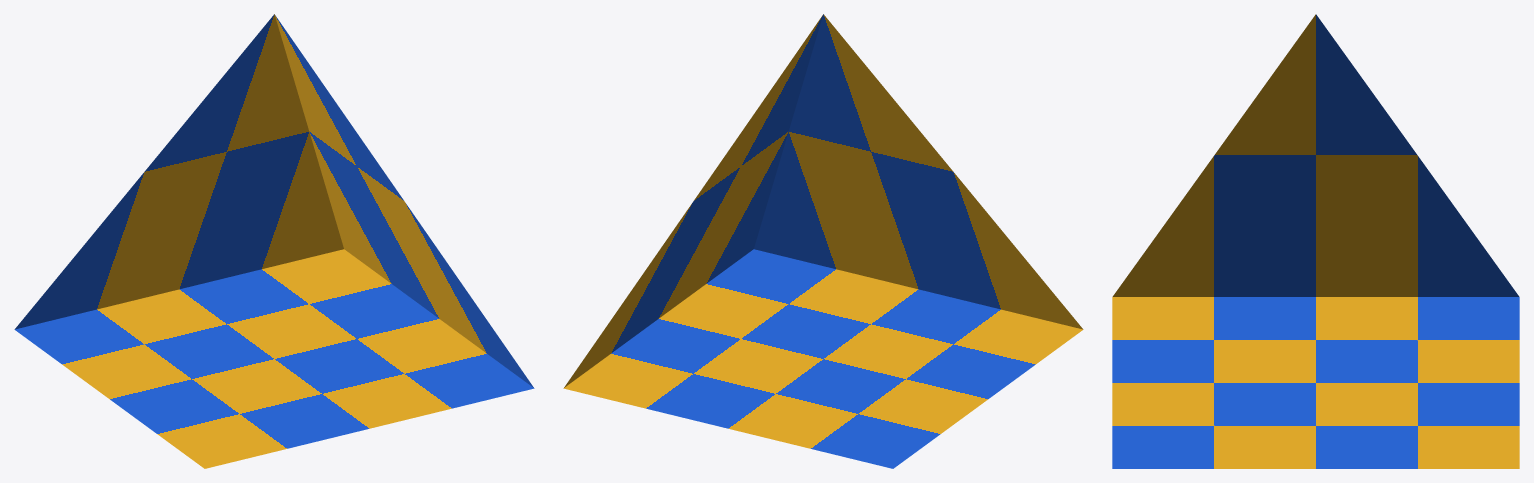
3 renders of one model, left to right at view 1: azimuth 30°, elevation 25°; view 2: azimuth 150°, elevation 25°; view 3: azimuth 270°, elevation 25°, orthographic. The views are drawn at different scales.
Visible parts, largest first — view 1: Blue gold pyramid; view 2: Blue gold pyramid; view 3: Blue gold pyramid.
Boxes of the visible parts, x1,y1,x2,y2 form: Blue gold pyramid: (14,14,534,468); Blue gold pyramid: (563,14,1083,468); Blue gold pyramid: (1112,14,1519,468).
Size of the model in its own units: 1 by 1 by 1.
1 material, 1 textured.
